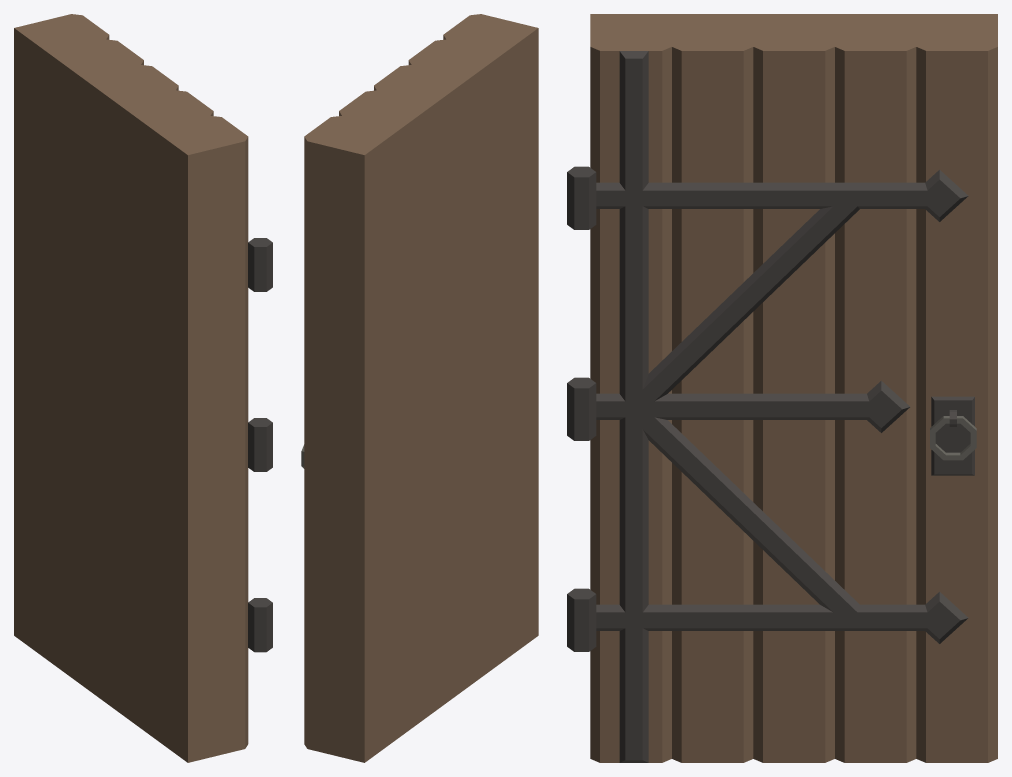
Rendered from Wall_Prop_Door_Ornate.obj.
3 views of the same model, side by side, from view 1: azimuth 30°, elevation 25°; view 2: azimuth 150°, elevation 25°; view 3: azimuth 270°, elevation 25° (orthographic). The views are drawn at different scales.
Parts seen in each view (by area): view 1: object2, object5; view 2: object2; view 3: object2, object5, object1, object4.
Boxes of the visible parts, x1,y1,x2,y2 form: object2: (14,14,248,762); object5: (248,238,272,652); object2: (304,14,538,762); object2: (590,14,997,762); object5: (567,51,968,762); object1: (931,396,974,475); object4: (930,416,976,460).
Size of the model in its own units: 0.1817 by 1.35 by 0.74.
